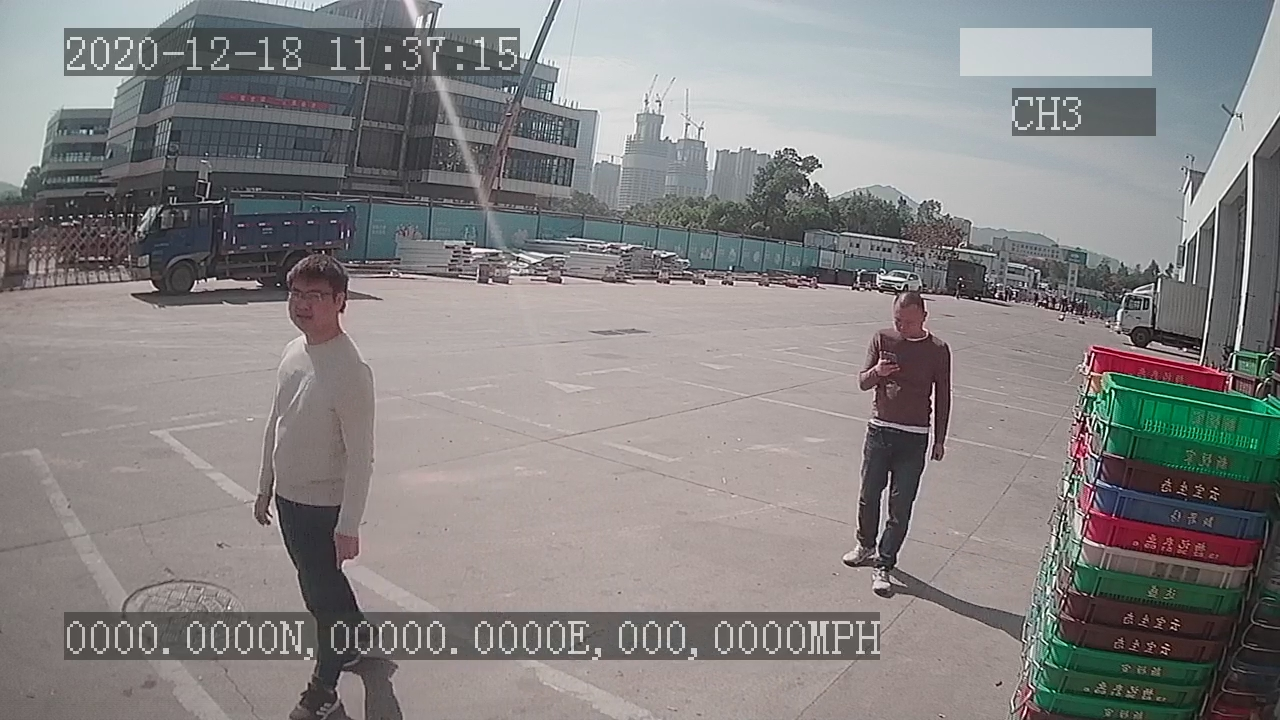person: (837, 292, 949, 593)
